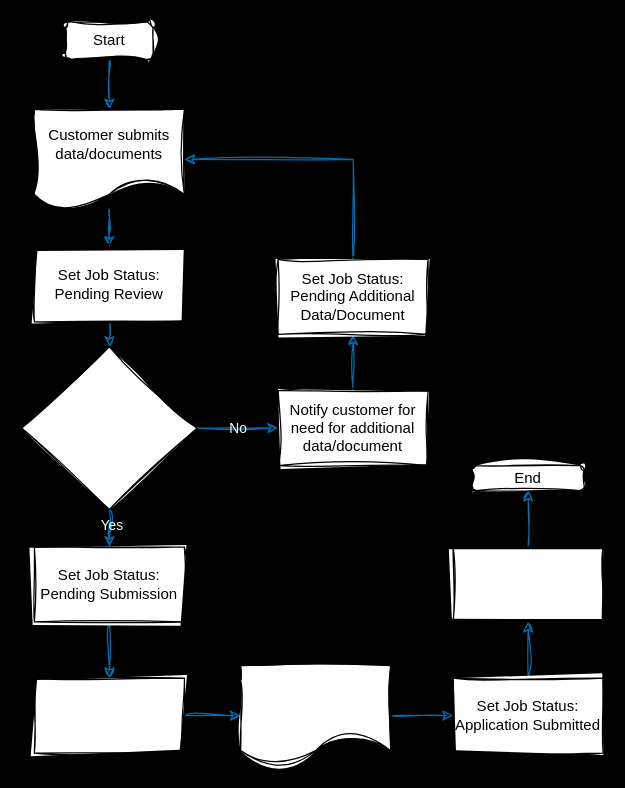
Some shapes in this 625 by 788 pixel diagram are drawn without their labels. Here are the shapes that lost their labels. From the top down, the box of each, then its label:
(21, 346, 197, 509): Data/Document set complete?
(452, 546, 603, 622): Notify Customer application submitted with document attached
(33, 677, 184, 753): Submit Data/Documents
(239, 664, 391, 766): Application Result Document Received
